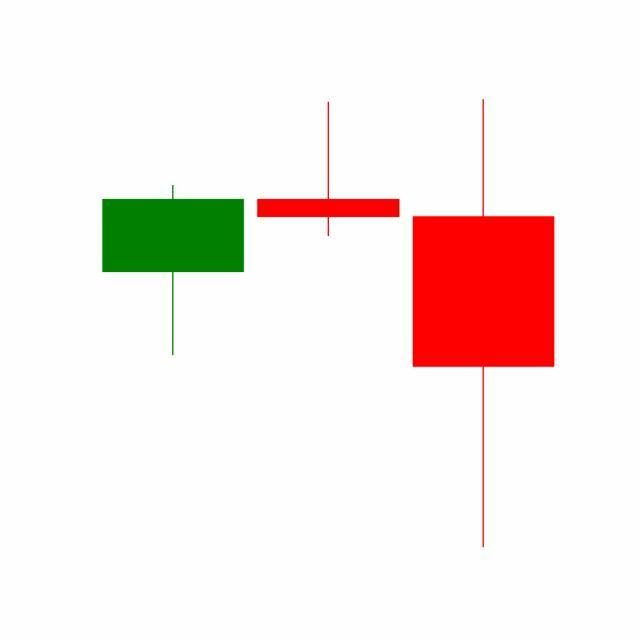Spinning Top: (250, 101, 407, 239)
